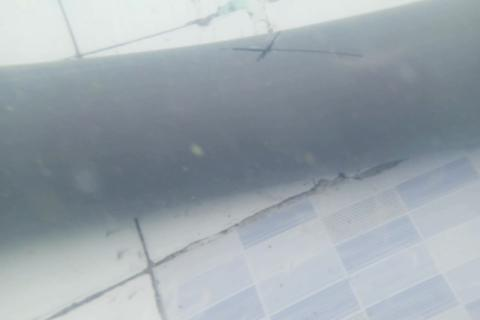keretakan: (221, 33, 363, 66)
